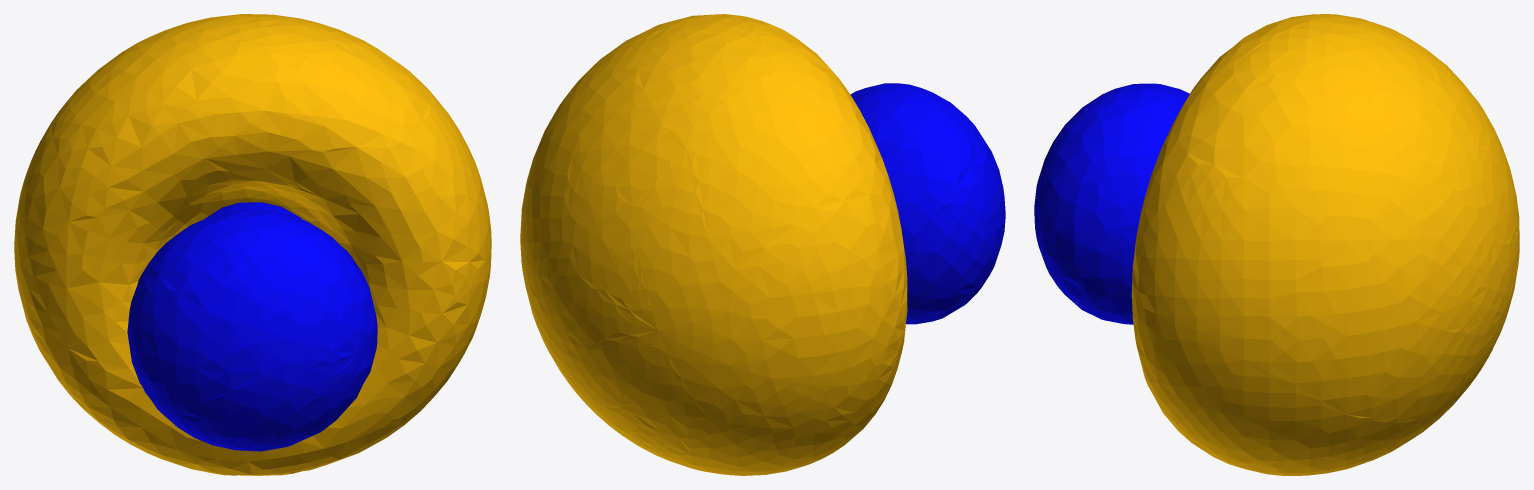
3 views of the same model, side by side, from view 1: azimuth 30°, elevation 25°; view 2: azimuth 150°, elevation 25°; view 3: azimuth 270°, elevation 25° (orthographic). The views are drawn at different scales.
Size of the model in its own units: 19.15 by 20.03 by 20.9.
